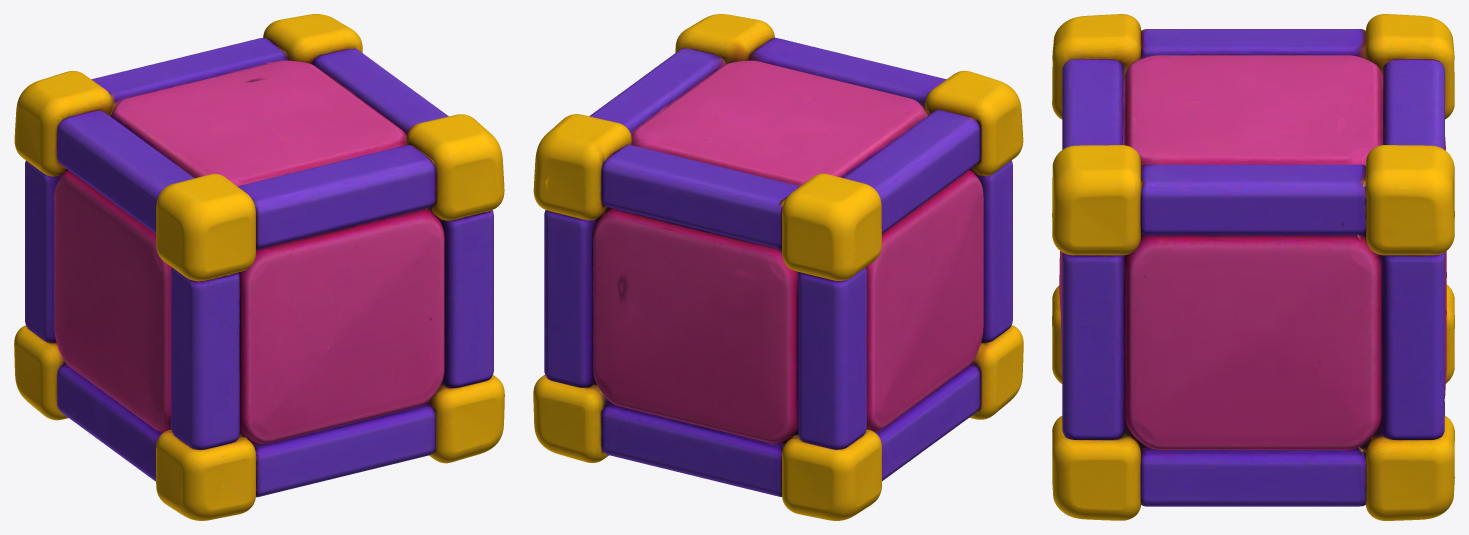
The model's file is model-04-bounce-block.glb.
3 views of the same model, side by side, from view 1: azimuth 30°, elevation 25°; view 2: azimuth 150°, elevation 25°; view 3: azimuth 270°, elevation 25° (orthographic). The views are drawn at different scales.
Visible parts, largest first — view 1: node_0; view 2: node_0; view 3: node_0.
Part boxes in pixels (left/top/right/bottom): node_0: left=14, top=14, right=504, bottom=520; node_0: left=533, top=14, right=1023, bottom=520; node_0: left=1052, top=14, right=1454, bottom=520.
Bounding box in the file's own units: 0.7495 × 0.719 × 0.7448.
1 material, 1 textured.
